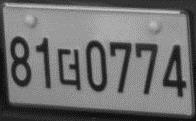0: (85, 40, 108, 91)
1: (31, 36, 57, 90)
4: (161, 43, 187, 98)
7: (107, 40, 134, 94), (134, 41, 159, 96)
8: (8, 34, 32, 87)
더: (56, 48, 83, 90)
